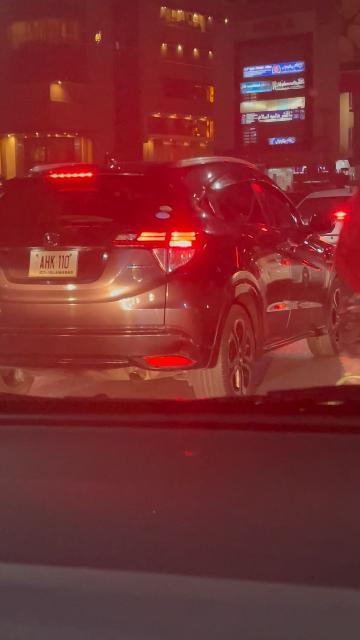plate: (29, 248, 77, 278)
